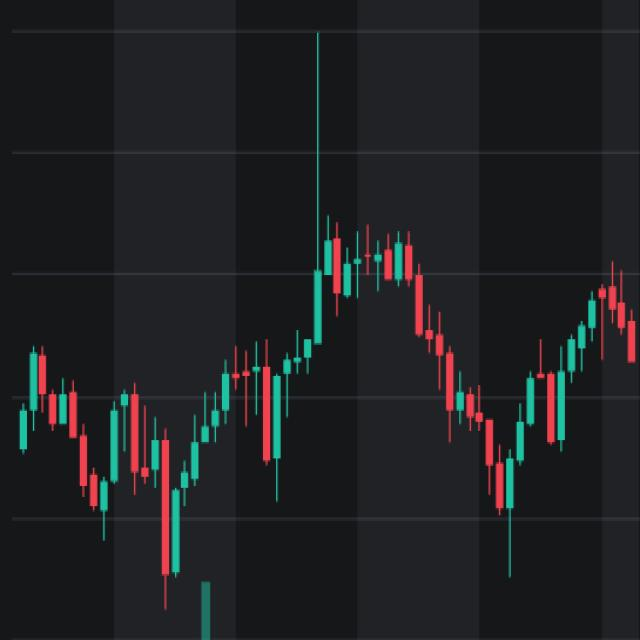Resistance-Emerging: (262, 218, 640, 526)
